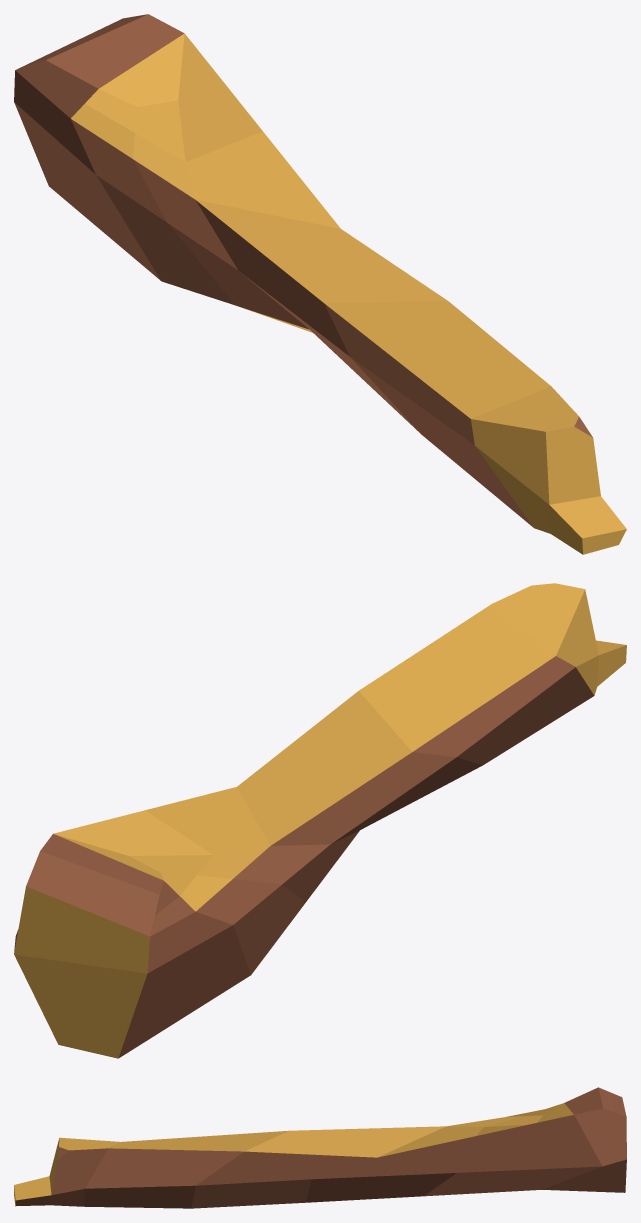
The model's file is log_1.fbx.
The picture shows the model from 3 angles, top to bottom: view 1: azimuth 30°, elevation 25°; view 2: azimuth 150°, elevation 25°; view 3: azimuth 270°, elevation 25°; orthographic projection. The views are drawn at different scales.
Parts seen in each view (by area): view 1: log_1; view 2: log_1; view 3: log_1.
Part boxes in pixels (<box>): log_1: <box>14,14,626,554</box>; log_1: <box>14,583,626,1058</box>; log_1: <box>14,1087,626,1208</box>.
Bounding box in the file's own units: 95.11 × 110 × 594.
